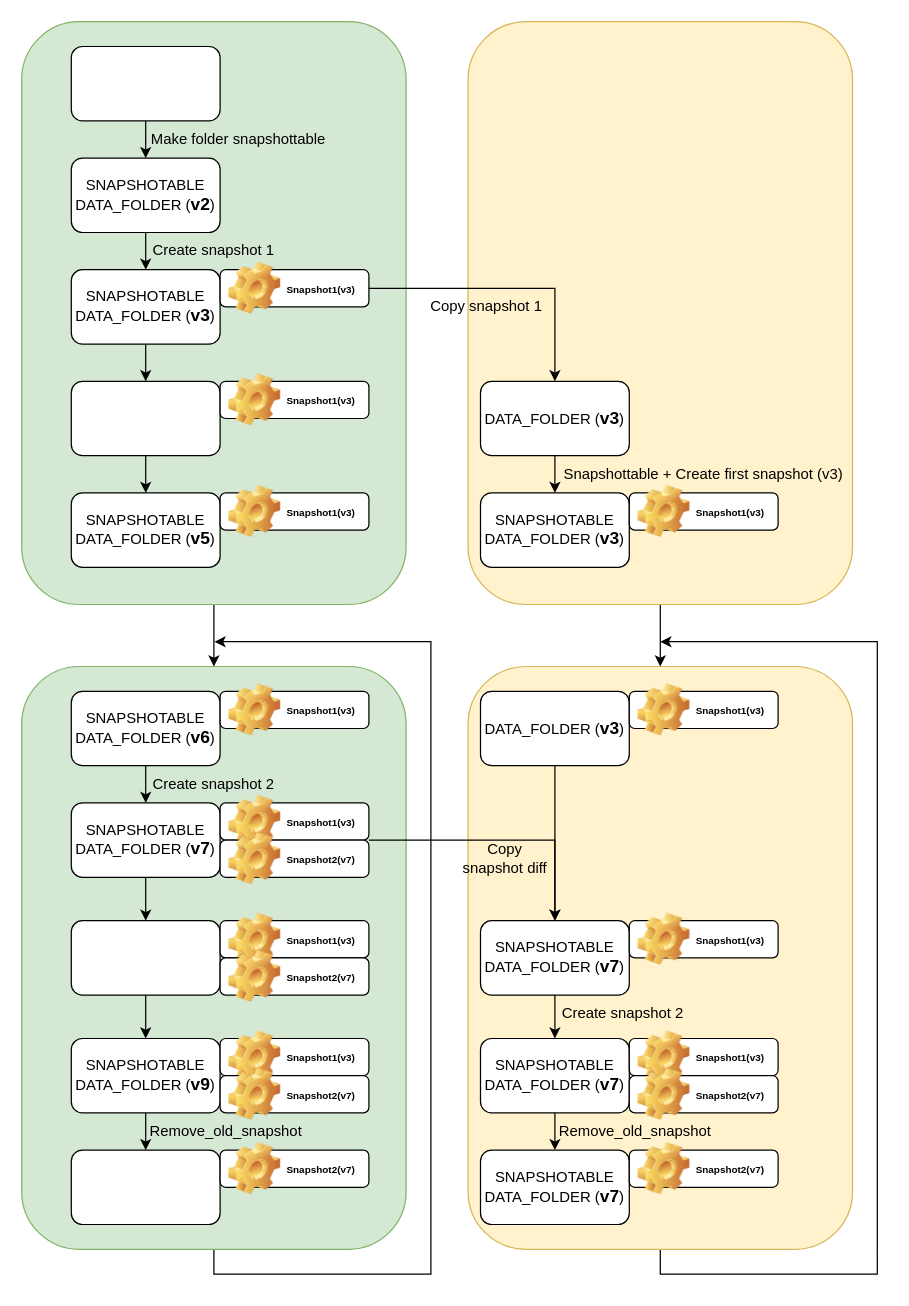
Image size: 909x1306. Some labels were removed from this diagram. The centre of each missing label's shape, as x and y in pixels:
"DATA_FOLDER ( v1 )" goes at [145,83].
"SNAPSHOTABLE DATA_FOLDER ( v10 )" goes at [145,1186].
"SNAPSHOTABLE DATA_FOLDER ( v4 )" goes at [145,418].
"SNAPSHOTABLE DATA_FOLDER ( v8 )" goes at [145,957].
